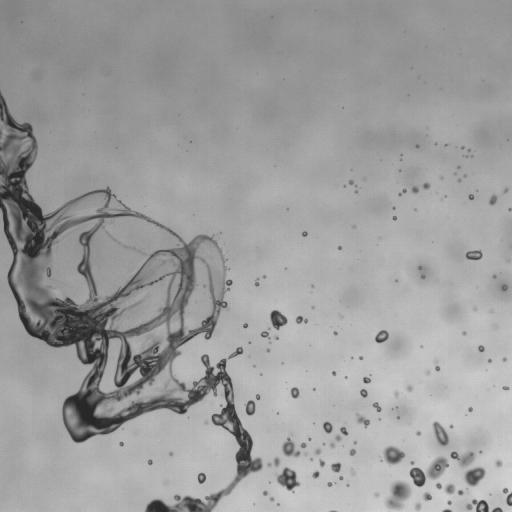droplet: (409, 456, 448, 487), (384, 480, 411, 510), (276, 467, 300, 492), (381, 446, 405, 465), (450, 451, 475, 467), (464, 467, 485, 486), (269, 310, 287, 329), (282, 438, 300, 457), (374, 330, 388, 343), (465, 250, 482, 260), (356, 414, 369, 427), (244, 400, 255, 415), (444, 483, 455, 494), (323, 421, 332, 433), (267, 457, 279, 466), (331, 462, 341, 472), (290, 387, 299, 398), (489, 195, 497, 205), (197, 473, 205, 483), (296, 316, 307, 323), (260, 330, 269, 338), (373, 402, 381, 411), (423, 492, 431, 500), (422, 182, 430, 189), (360, 389, 367, 397), (340, 427, 347, 435), (411, 186, 418, 193), (495, 460, 502, 467), (312, 471, 319, 478), (362, 377, 370, 383), (319, 459, 325, 466), (435, 482, 441, 489), (414, 503, 420, 510), (254, 278, 259, 286), (478, 345, 484, 351), (406, 385, 412, 391), (335, 435, 341, 441), (349, 449, 355, 455), (468, 194, 474, 199), (302, 231, 307, 237), (501, 285, 507, 290), (330, 442, 335, 448), (315, 448, 320, 454), (435, 365, 440, 370), (301, 442, 306, 447), (374, 492, 379, 497), (348, 180, 353, 184), (503, 386, 508, 390), (394, 391, 398, 396), (148, 459, 152, 464), (351, 469, 355, 474), (327, 482, 332, 486), (263, 490, 267, 495), (504, 188, 508, 192), (421, 274, 425, 278), (243, 323, 247, 327), (333, 331, 337, 335), (462, 331, 466, 335), (274, 335, 278, 339), (502, 357, 506, 361), (256, 395, 260, 399), (468, 407, 472, 411), (416, 431, 420, 435), (270, 497, 274, 501), (447, 500, 451, 504), (393, 216, 396, 220), (58, 283, 62, 286), (266, 348, 270, 351), (332, 371, 335, 375), (119, 442, 123, 445), (338, 246, 341, 249), (418, 266, 421, 269), (359, 356, 362, 359), (169, 452, 172, 455), (339, 476, 342, 479), (458, 179, 460, 182), (355, 190, 357, 193), (263, 275, 265, 278), (493, 275, 495, 278), (488, 359, 491, 361), (450, 425, 452, 428), (416, 145, 418, 147), (461, 146, 463, 148), (509, 208, 511, 210), (353, 226, 355, 228), (312, 286, 314, 288), (474, 307, 476, 309), (133, 314, 135, 316), (427, 372, 429, 374), (205, 421, 207, 423), (308, 438, 310, 440), (479, 451, 481, 453)
ligament: (0, 90, 262, 511), (466, 499, 503, 511), (432, 421, 449, 445), (502, 488, 511, 506), (97, 256, 104, 268), (457, 489, 468, 495), (398, 188, 406, 195), (442, 509, 452, 511), (99, 238, 103, 242), (329, 510, 337, 511), (0, 130, 1, 137)
